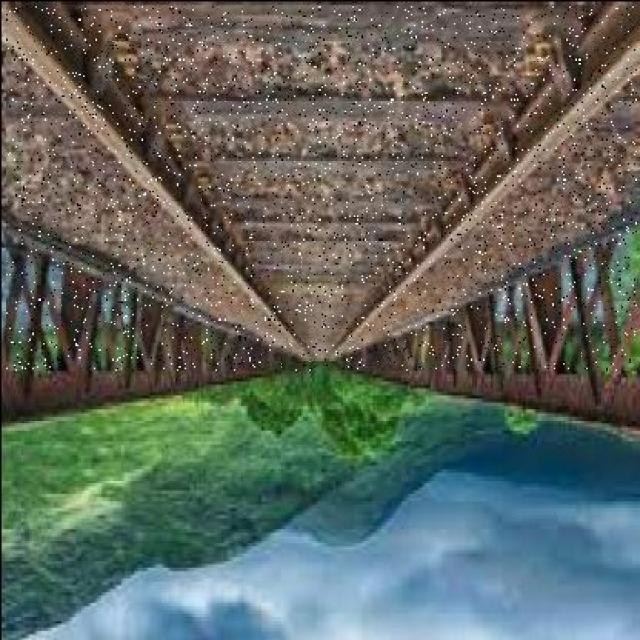rail: (6, 6, 636, 369)
